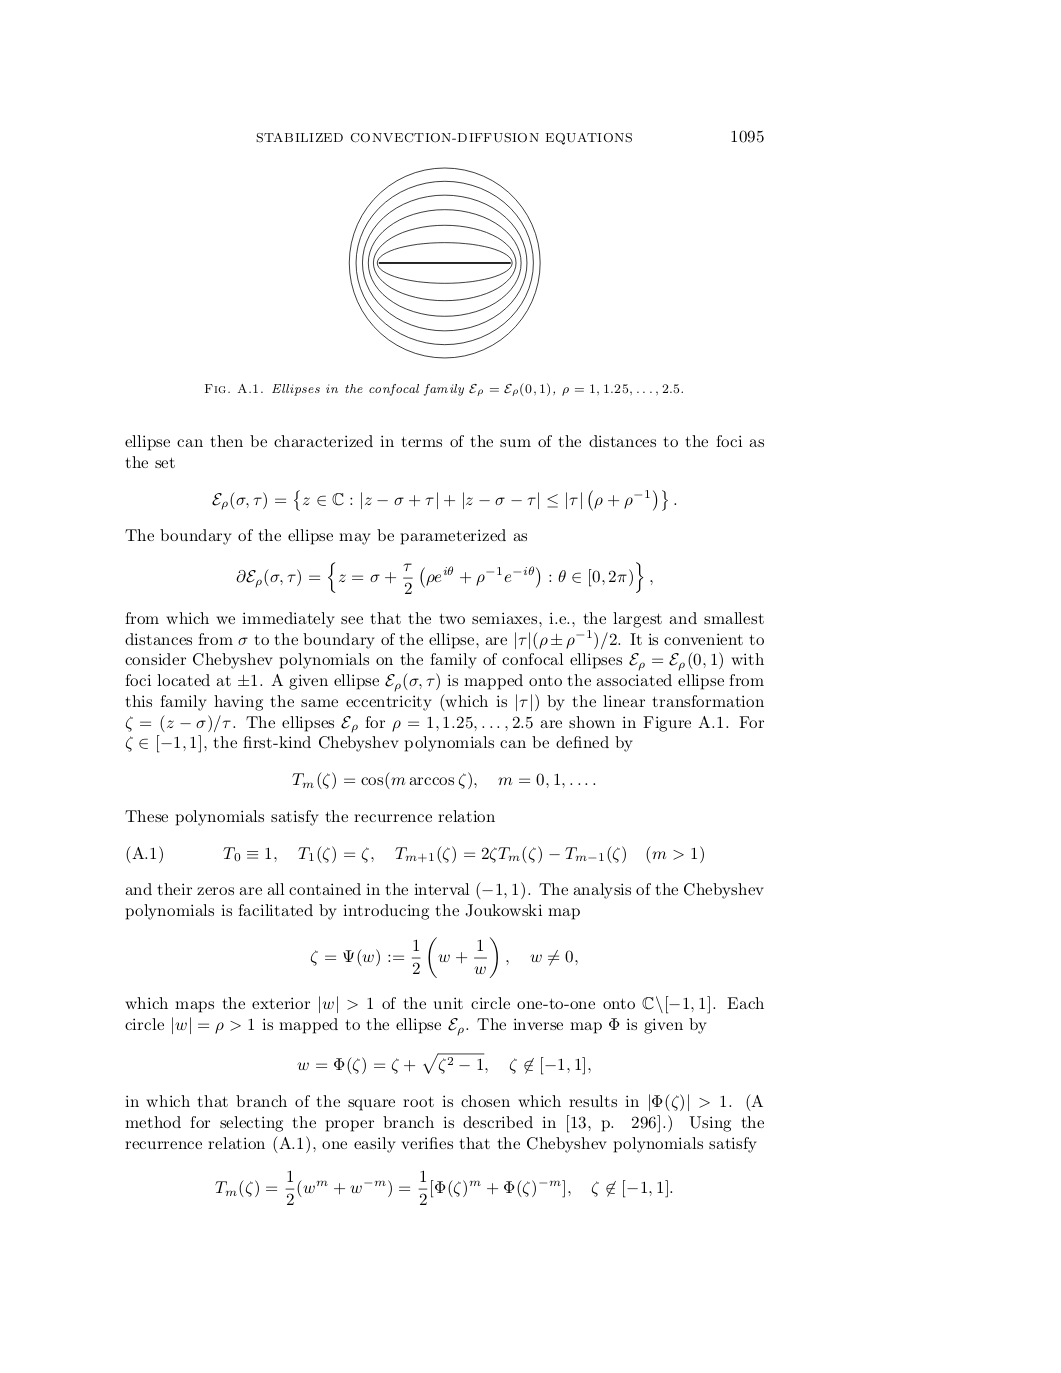figure: (348, 166, 541, 359)
formula: (215, 1169, 672, 1205), (236, 561, 652, 594), (310, 936, 577, 978), (126, 845, 703, 864), (212, 489, 676, 512), (296, 1052, 590, 1075), (292, 771, 595, 790)
